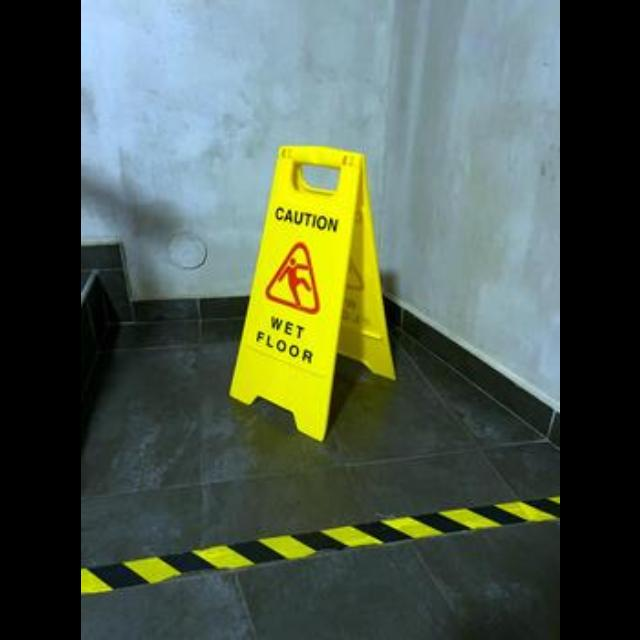tron truot: (232, 146, 393, 439)
